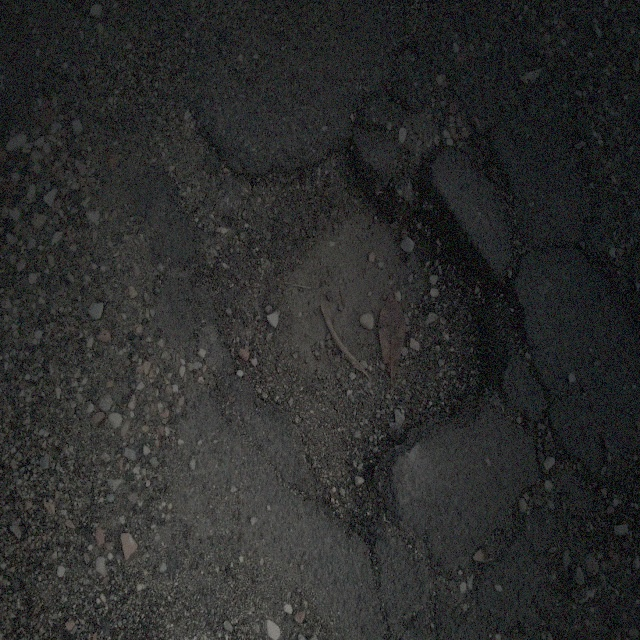pothole: (212, 147, 514, 534)
